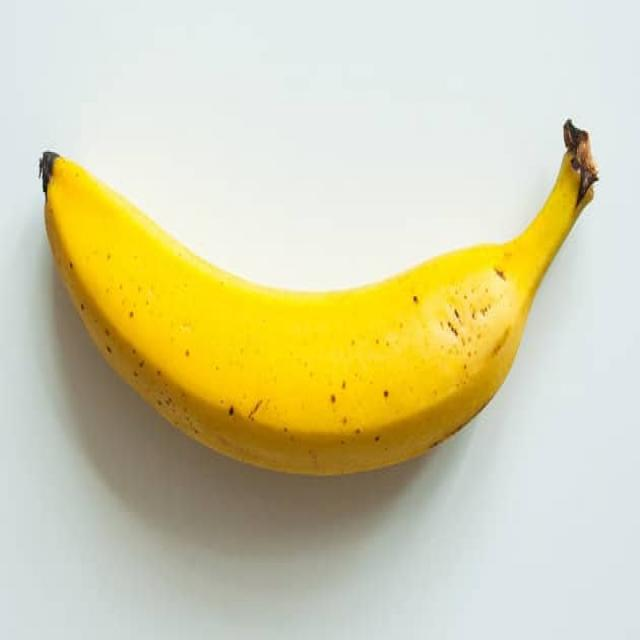Banana: (34, 120, 600, 477)
